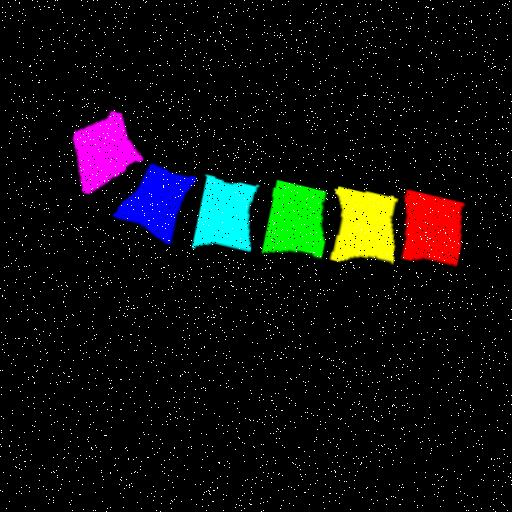L1: (398, 193, 459, 268)
L2: (325, 187, 391, 264)
L3: (256, 182, 320, 260)
L4: (187, 176, 252, 253)
L5: (112, 165, 192, 244)
S1: (69, 111, 139, 194)
